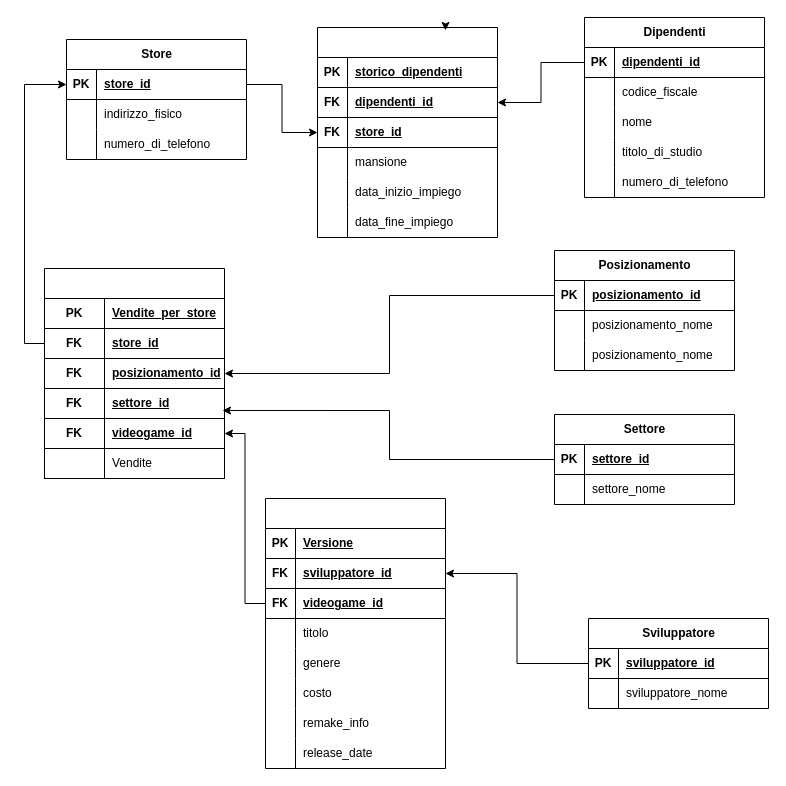
Some shapes in this 786 by 786 pixel diagram are drawn without their labels. Here are the shapes that lost their labels. From the top down, the box of each, then its label:
(316, 26, 498, 238): Employee - Store
(44, 268, 224, 478): Sales(?)
(264, 498, 446, 768): Videogames - Info
